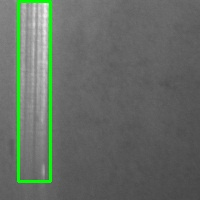scratches: (18, 1, 50, 181)
